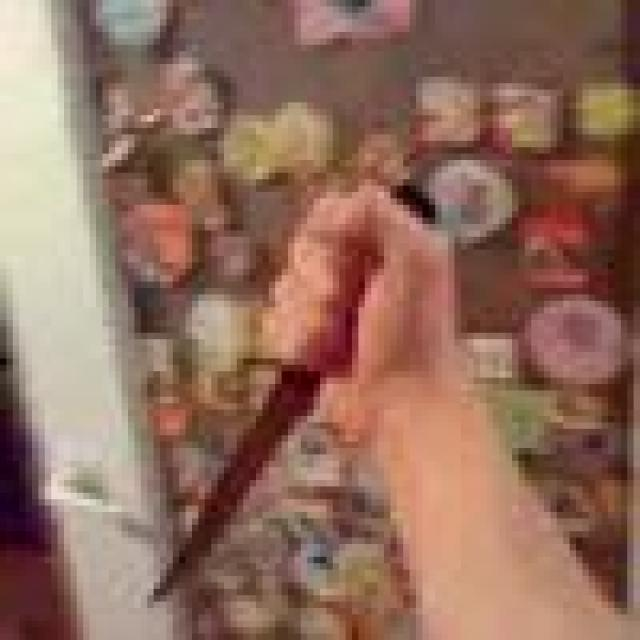knife: (147, 369, 318, 614)
